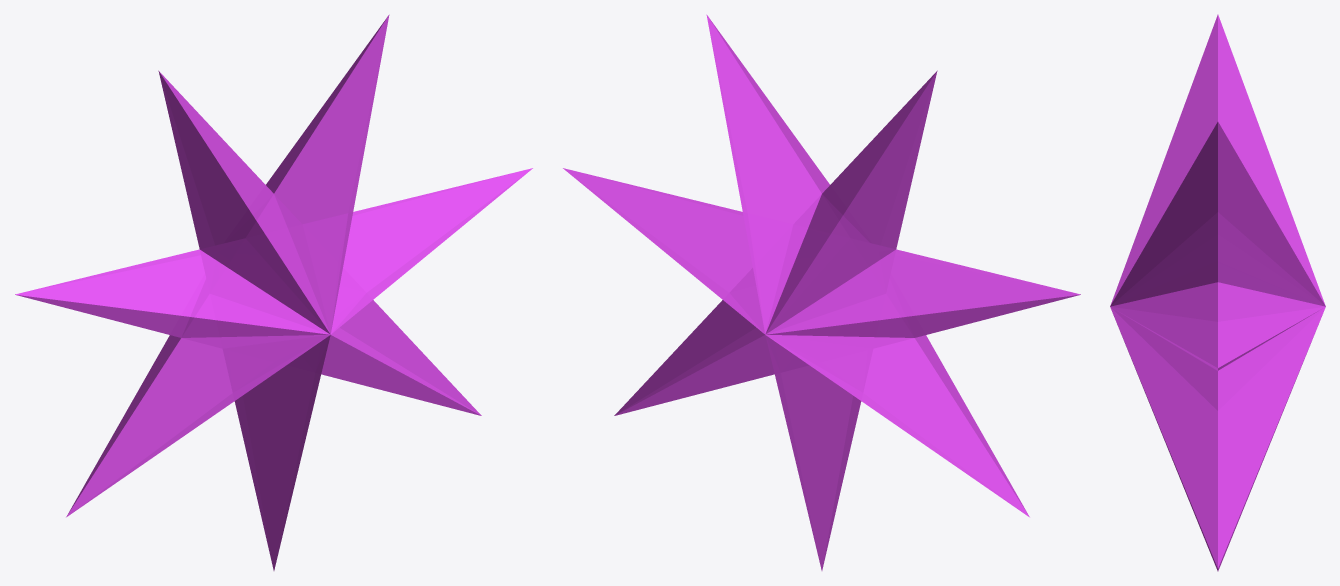
Rendered from HeptagrammicDipyramid.obj.
3 views of the same model, side by side, from view 1: azimuth 30°, elevation 25°; view 2: azimuth 150°, elevation 25°; view 3: azimuth 270°, elevation 25° (orthographic). The views are drawn at different scales.
Size of the model in its own units: 4.49 by 4.38 by 1.7.
